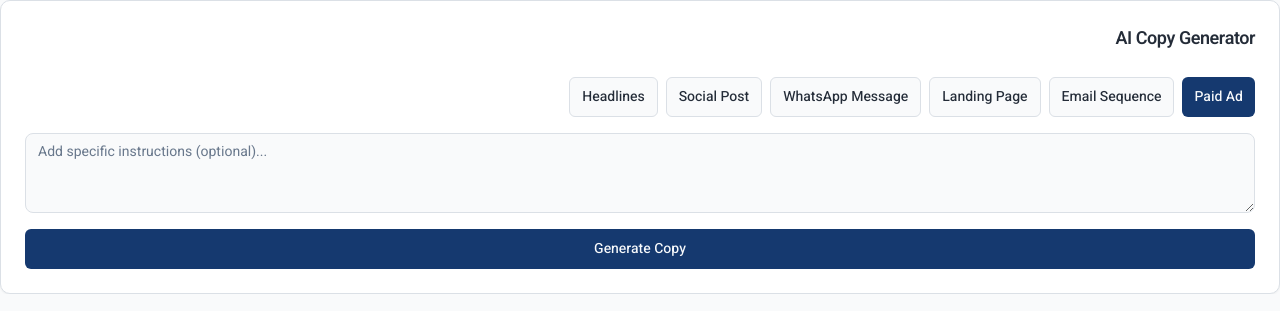
Test: AICopyGenerator › changes selected task when button is clicked
The width and height of the screenshot is (1280, 311).
Click the button "Email Sequence". click: click(1112, 97)
box: x1=1049 y1=77 x2=1174 y2=117
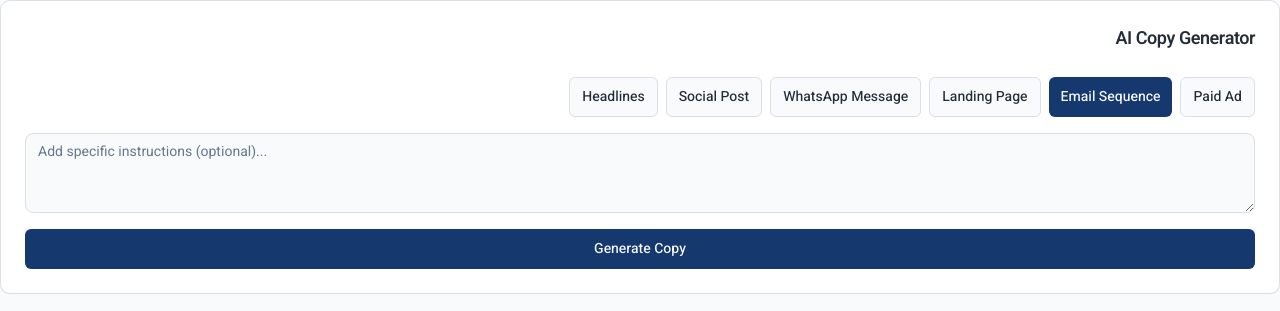
expect the button "Email Sequence" has class "bg-primary": met, box x1=1049 y1=77 x2=1172 y2=117
